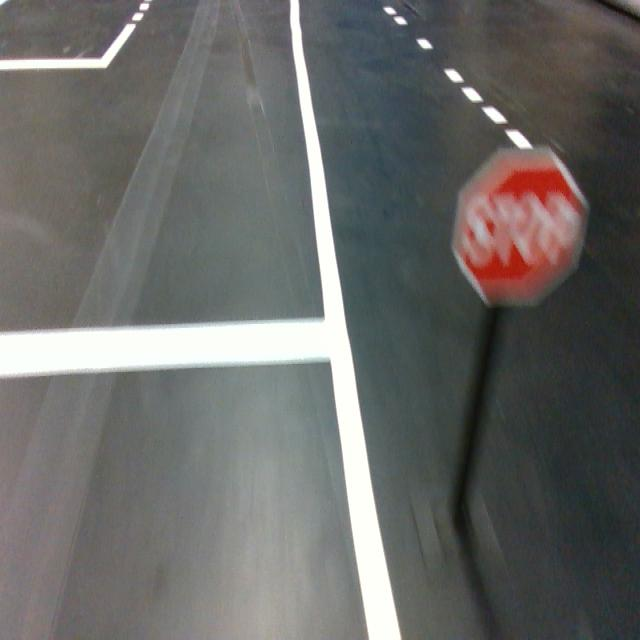stop-sign: (451, 149, 590, 307)
